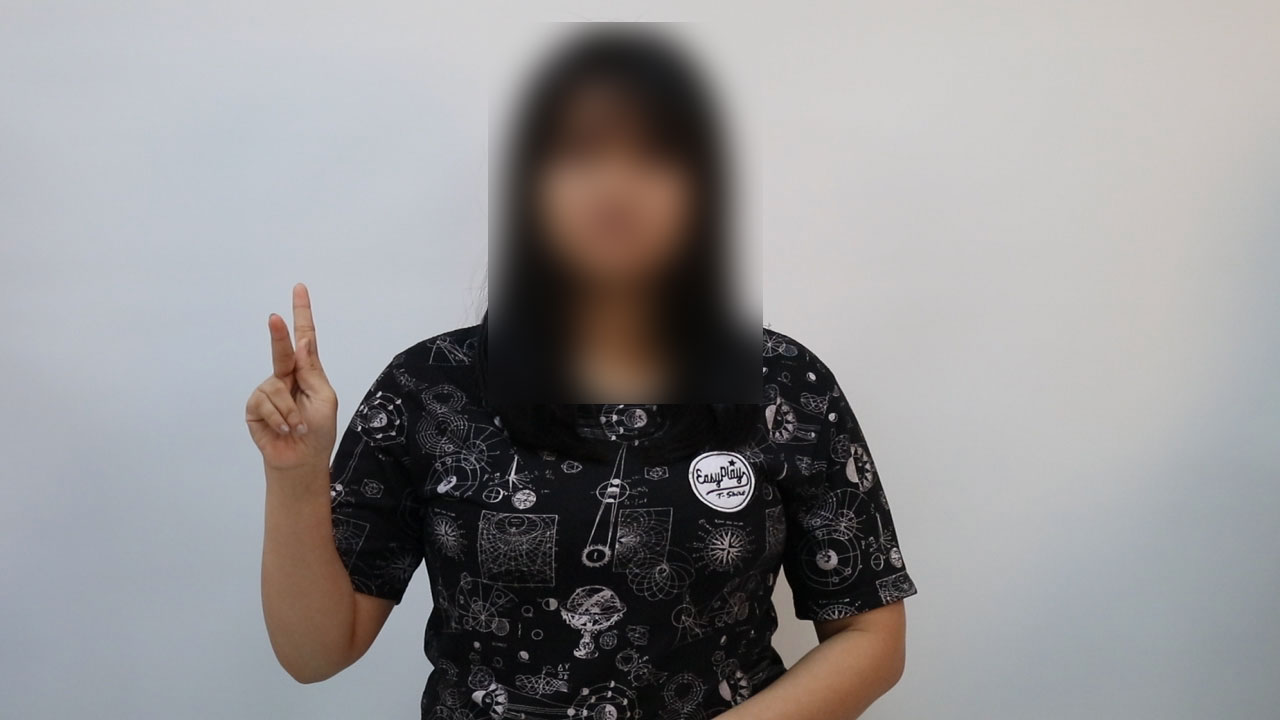ko: (211, 267, 403, 491)
